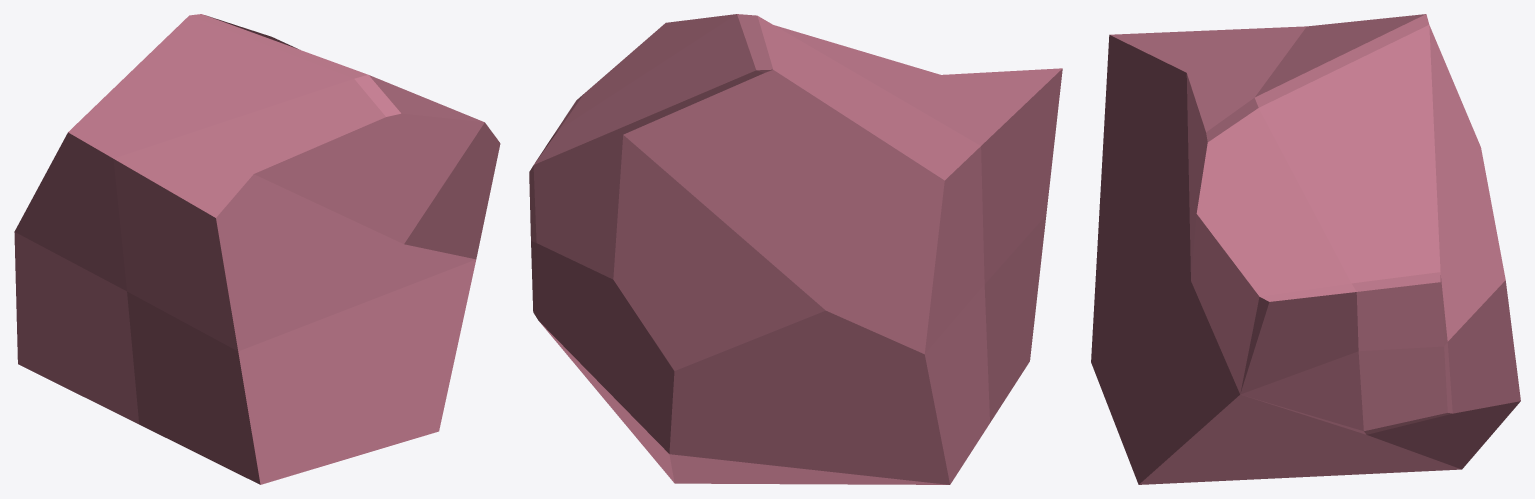
The model's file is Medium Rock.fbx.
3 views of the same model, side by side, from view 1: azimuth 30°, elevation 25°; view 2: azimuth 150°, elevation 25°; view 3: azimuth 270°, elevation 25° (orthographic). The views are drawn at different scales.
Parts seen in each view (by area): view 1: MediumRock; view 2: MediumRock; view 3: MediumRock.
Part boxes in pixels (bbox=[...]): MediumRock: bbox=[14, 14, 500, 484]; MediumRock: bbox=[529, 14, 1062, 484]; MediumRock: bbox=[1091, 14, 1520, 484].
Bounding box in the file's own units: 145 × 126 × 118.
